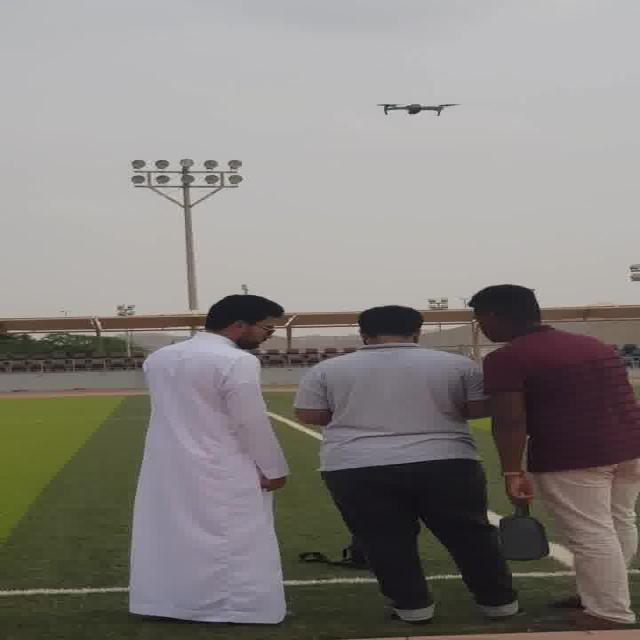drone: (373, 97, 458, 121)
